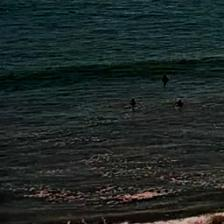surfer: (161, 75, 170, 84), (176, 100, 184, 108), (130, 98, 136, 106)
